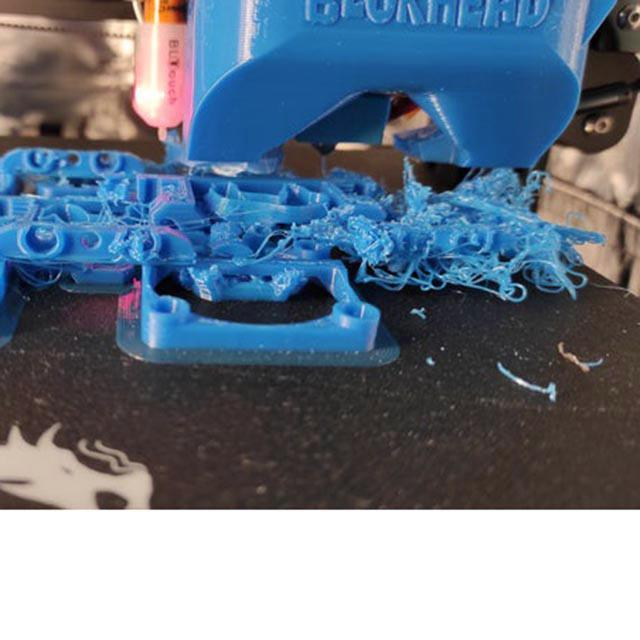spaghetti: (234, 157, 609, 303), (94, 181, 174, 263)
